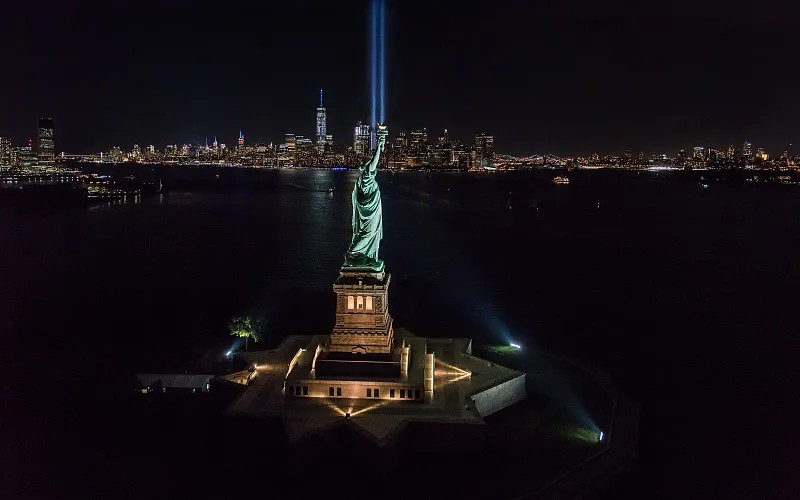SL: (328, 121, 394, 355)
